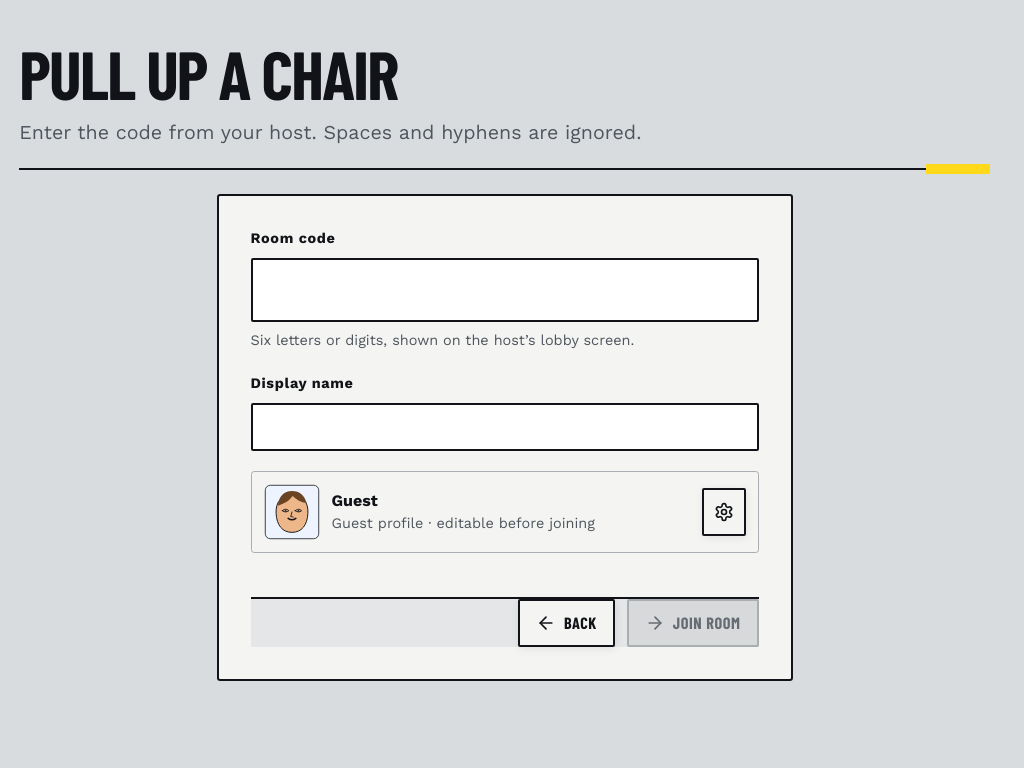
it: JoinScreen › gives a specific heading when the room has already started
Type "ABC234" into the field with test id "join-room-code" at (504, 290), box [250,258,758,322]
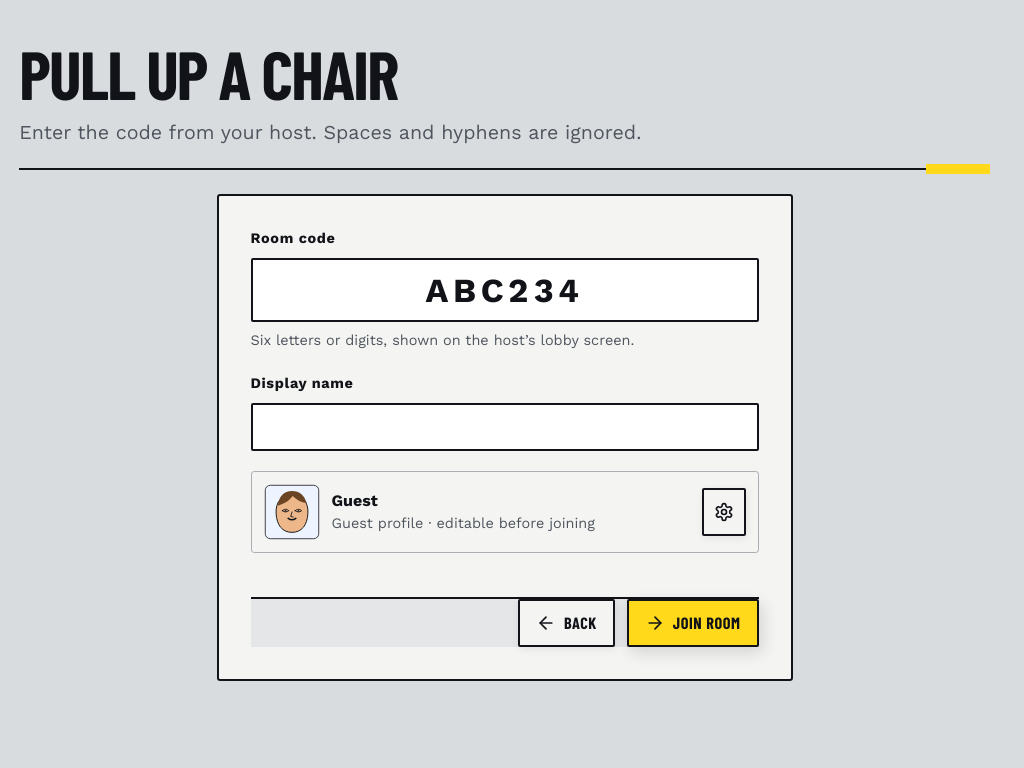
Type "Maya" into the field labelled "Display name" at (504, 427), box [250,403,758,451]
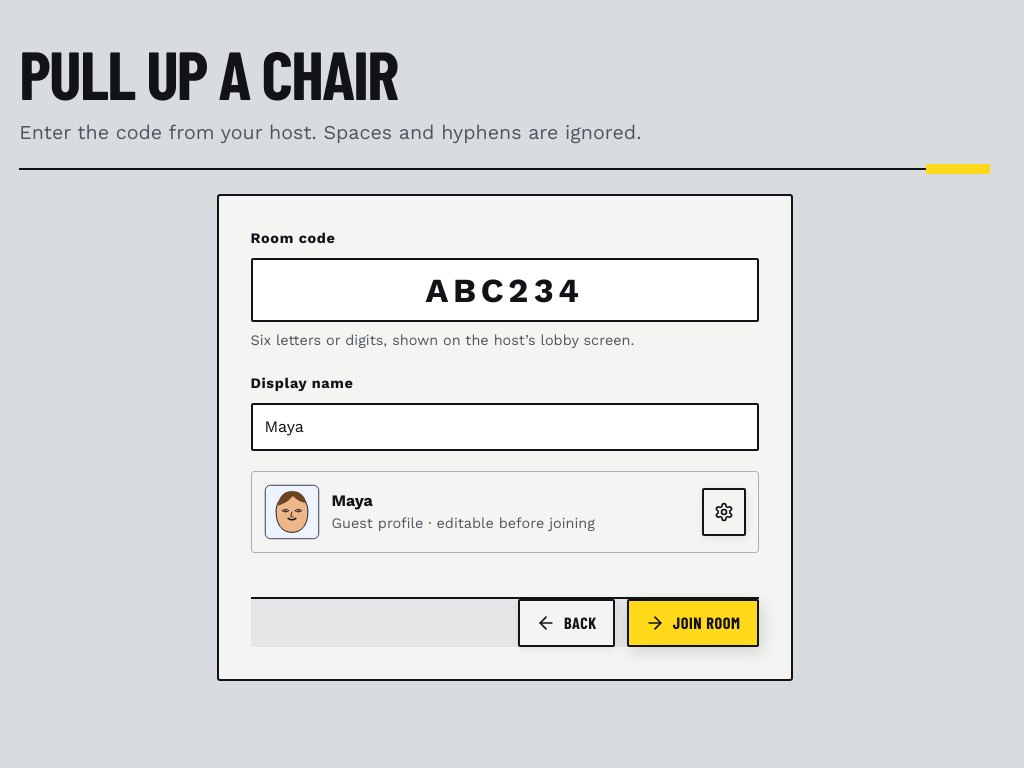
Click the button with test id "join-submit" at (693, 623), box [627,599,758,647]
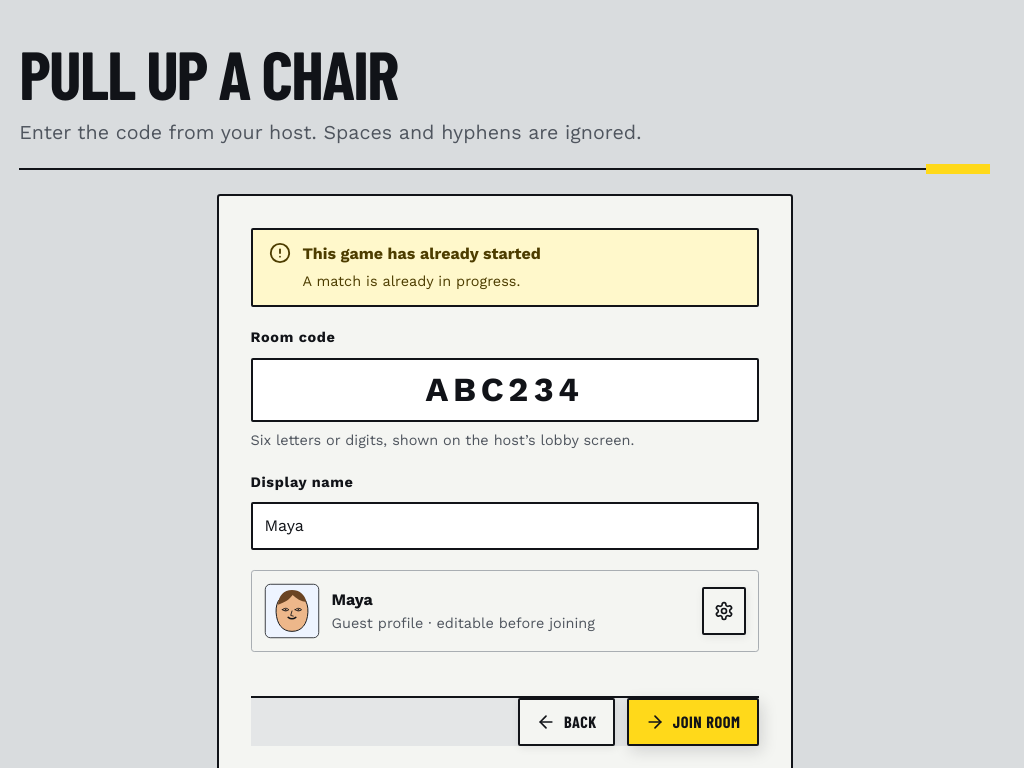
Expected: the text "This game has already started" is shown, [302,244,541,263]
